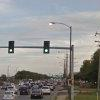Traffic light: (7, 34, 52, 67)
